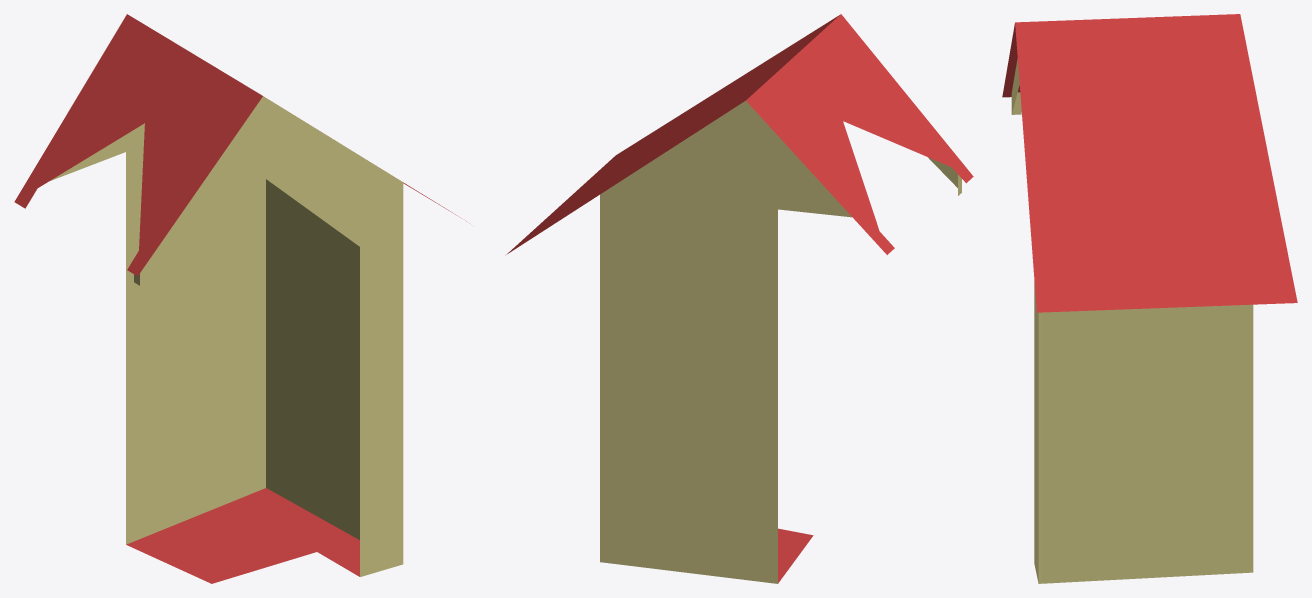
The picture shows the model from 3 angles, left to right: view 1: azimuth 30°, elevation 25°; view 2: azimuth 150°, elevation 25°; view 3: azimuth 270°, elevation 25°; orthographic projection. The views are drawn at different scales.
Bounding box in the file's own units: 11.77 × 8.45 × 15.49.
